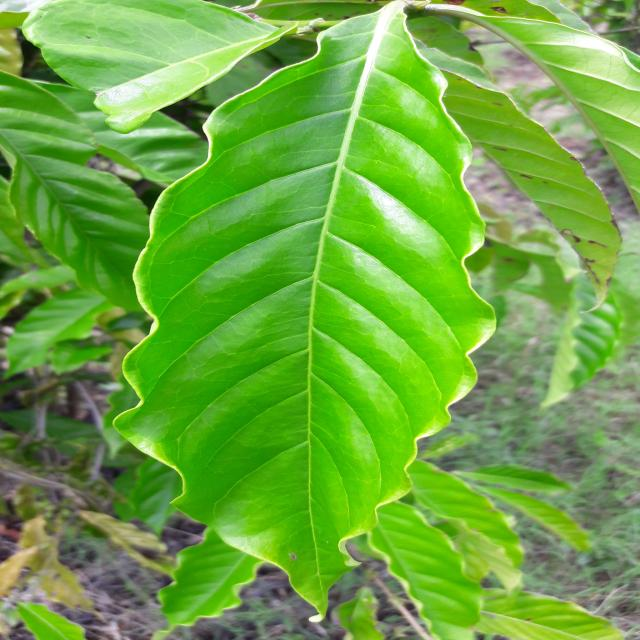Sanas: (103, 0, 498, 609)
